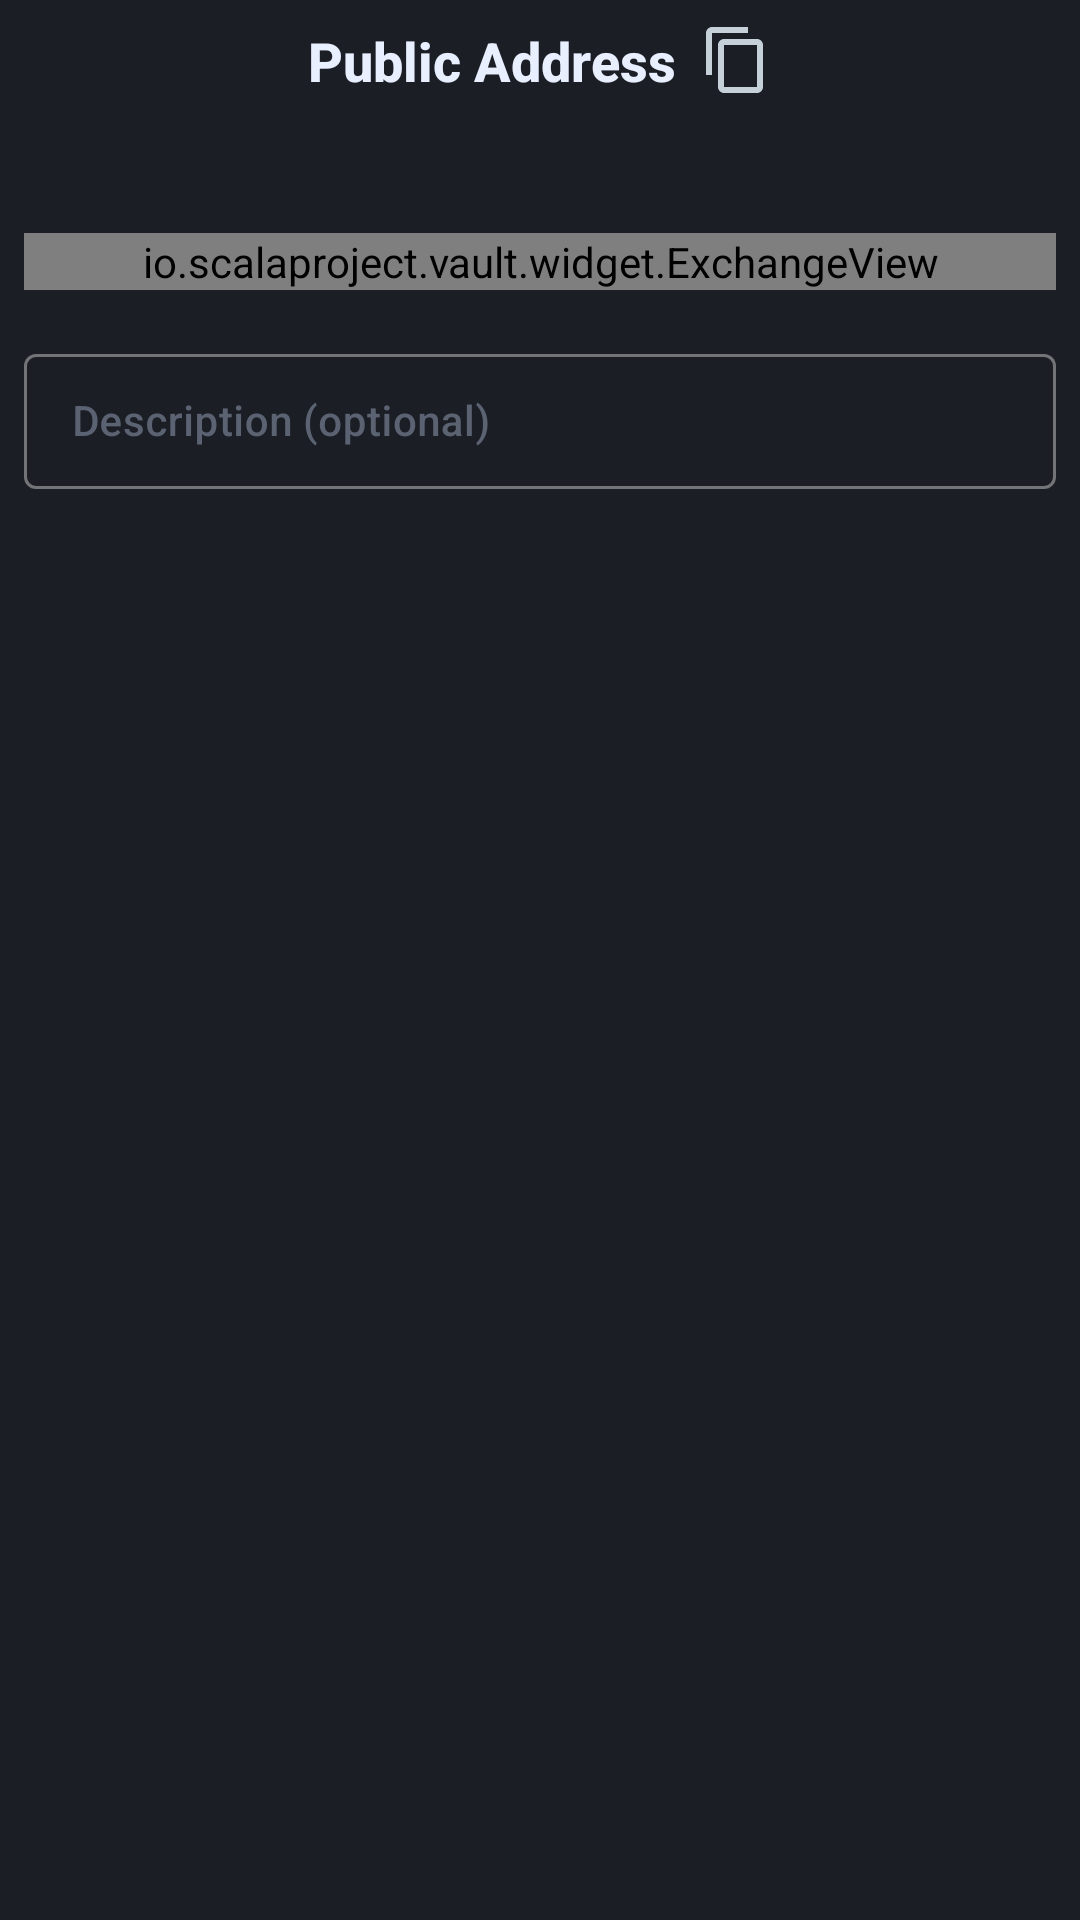

Screen size 1080*1920. Icon name, then its box in pixels as (x1, y1, x2, y2):
content nocopy: (706, 27, 763, 93)
